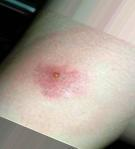Spider: (33, 63, 85, 100)
